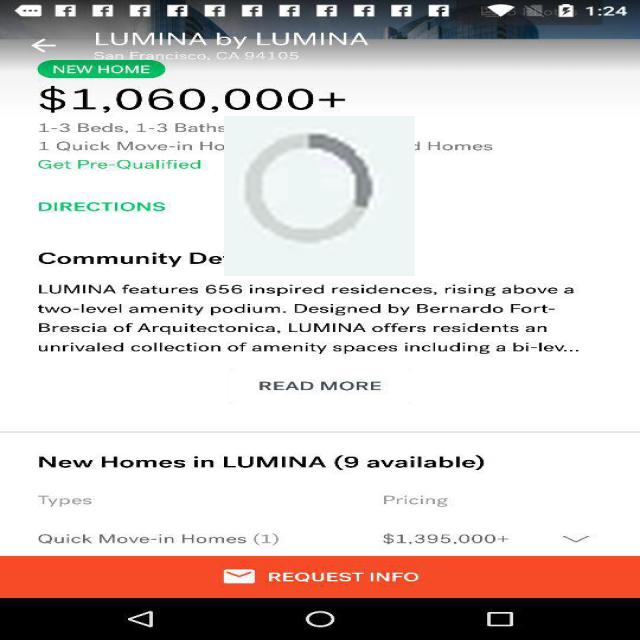misdirection: (224, 116, 415, 276)
